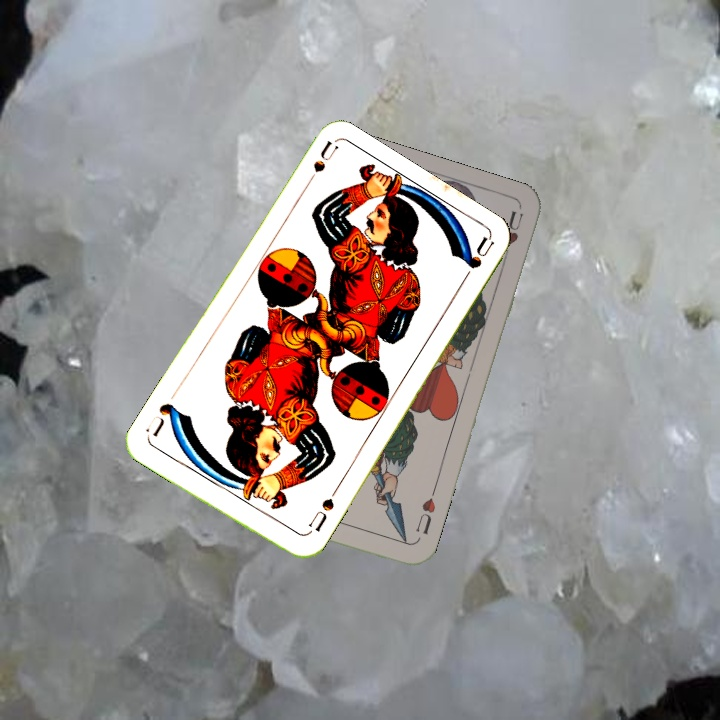HU: (411, 485, 439, 537)
SU: (299, 138, 340, 194), (301, 494, 337, 538)
